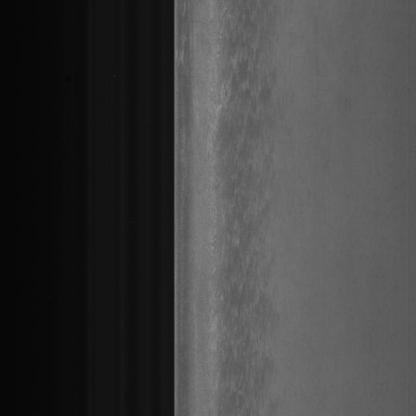silk_spot: (215, 33, 280, 364)
